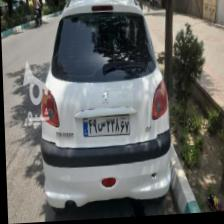plate: (82, 113, 130, 140)
